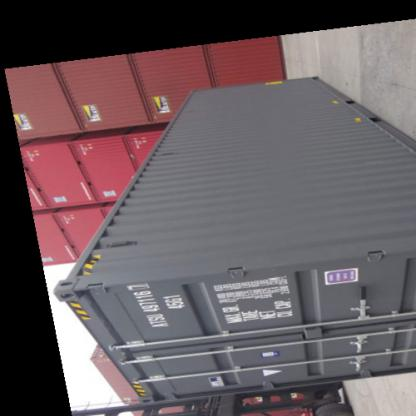Damage: (150, 144, 188, 158), (180, 102, 198, 113)
